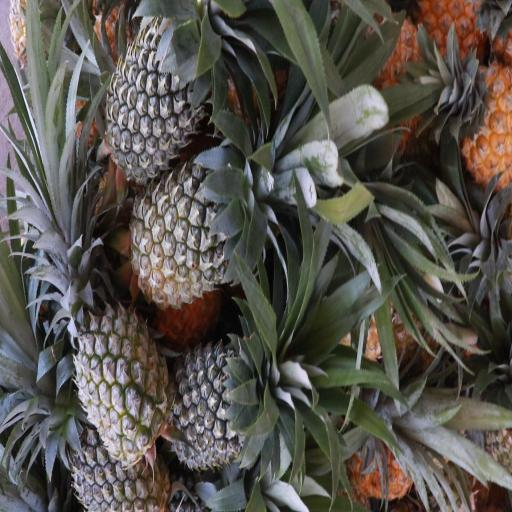------------------------------: (135, 162, 257, 295), (74, 307, 163, 459)
Pineapple - v8 v1: (444, 55, 512, 181), (421, 0, 489, 72)
